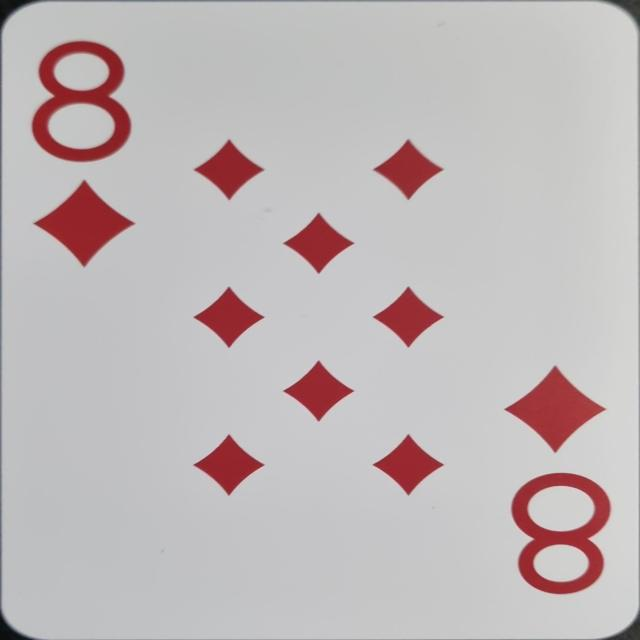8d: (496, 354, 621, 608), (21, 28, 147, 278)
